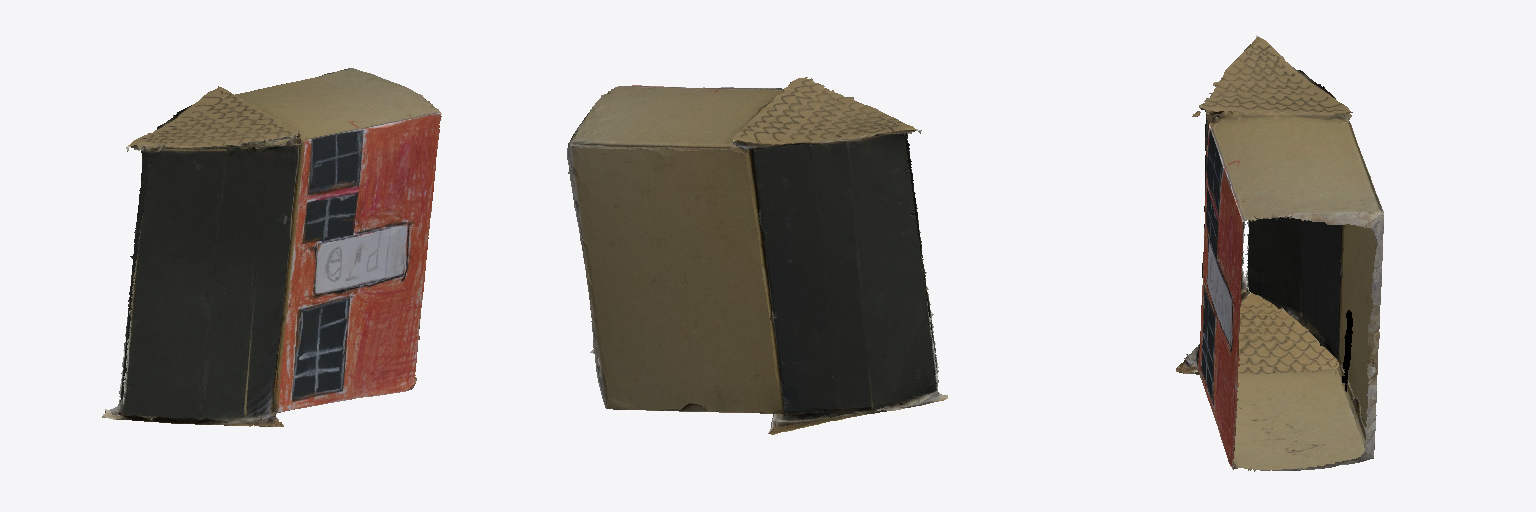
3 views of the same model, side by side, from view 1: azimuth 30°, elevation 25°; view 2: azimuth 150°, elevation 25°; view 3: azimuth 270°, elevation 25° (orthographic).
Bounding box in the file's own units: 2.9 × 2.53 × 1.57.
1 materials, 1 textured.